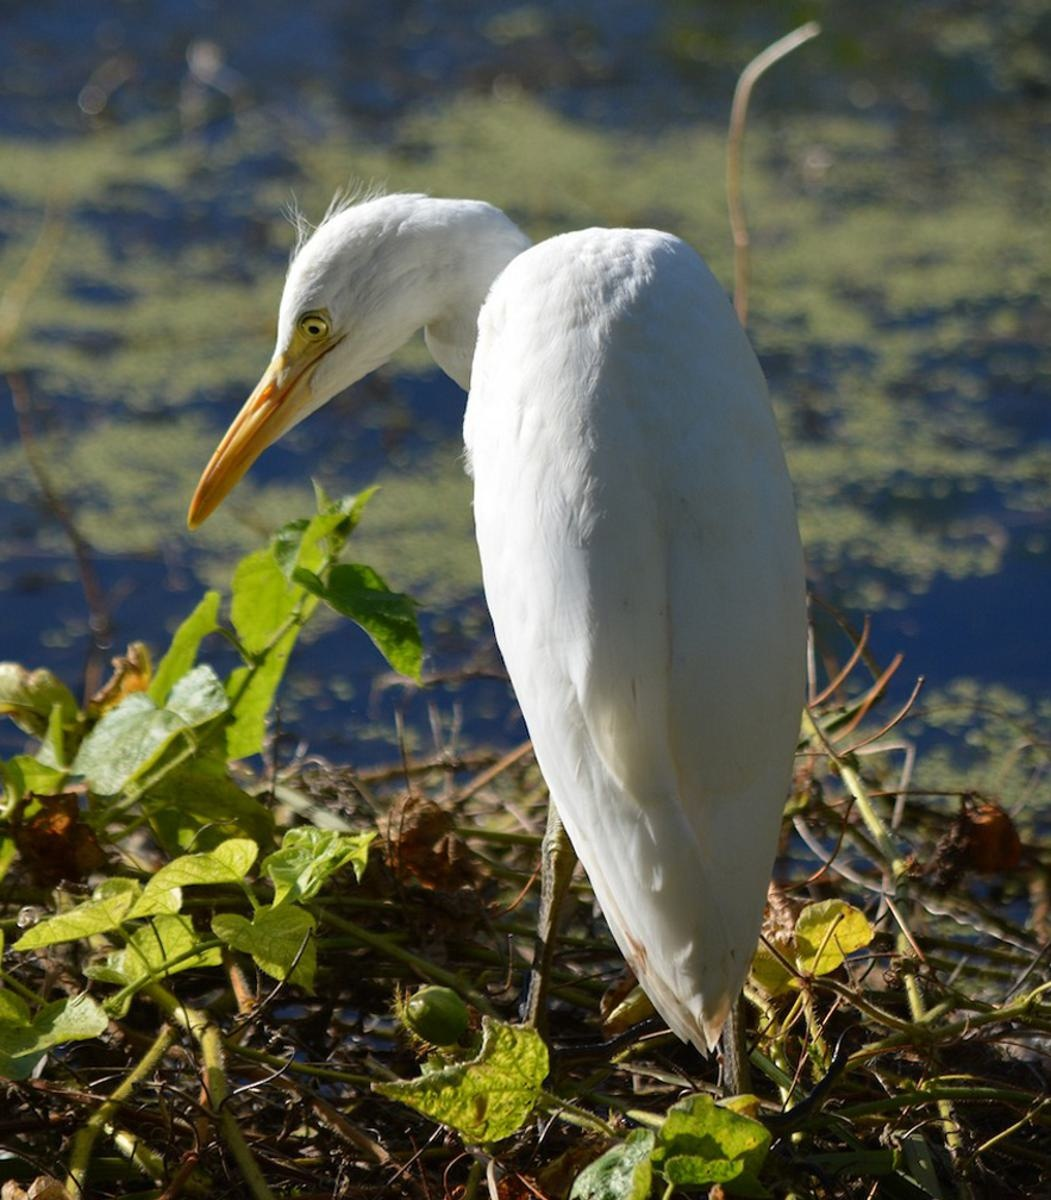egret: (201, 189, 823, 1126)
